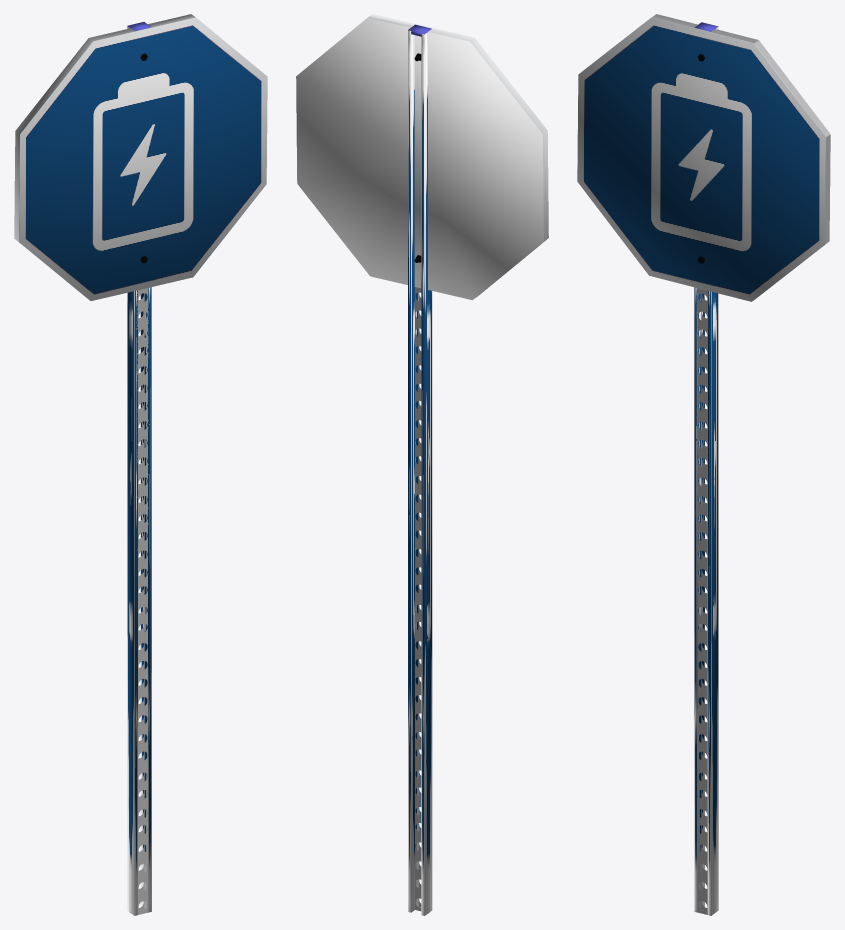
Rendered from batteryTrafficSign.fbx.
3 renders of one model, left to right at view 1: azimuth 30°, elevation 25°; view 2: azimuth 150°, elevation 25°; view 3: azimuth 330°, elevation 25°, orthographic.
Visible parts, largest first — view 1: ChamferCyl001, Box002, Object002, Box001, Object003; view 2: ChamferCyl001, Box002, Box001, Object003, Object002; view 3: ChamferCyl001, Box001, Object002, Box002, Object003.
Boxes of the visible parts, left/top/right/bottom form: ChamferCyl001: left=14, top=14, right=267, bottom=301; Box002: left=127, top=26, right=137, bottom=915; Object002: left=136, top=287, right=151, bottom=914; Box001: left=140, top=287, right=151, bottom=912; Object003: left=139, top=293, right=144, bottom=910; ChamferCyl001: left=296, top=14, right=548, bottom=300; Box002: left=421, top=32, right=432, bottom=915; Box001: left=408, top=30, right=418, bottom=912; Object003: left=415, top=287, right=421, bottom=911; Object002: left=418, top=292, right=421, bottom=907; ChamferCyl001: left=577, top=14, right=830, bottom=301; Box001: left=707, top=27, right=718, bottom=915; Object002: left=696, top=288, right=711, bottom=915; Box002: left=694, top=287, right=704, bottom=912; Object003: left=701, top=293, right=706, bottom=910.
Size of the model in its own units: 8044 by 27343 by 521.
